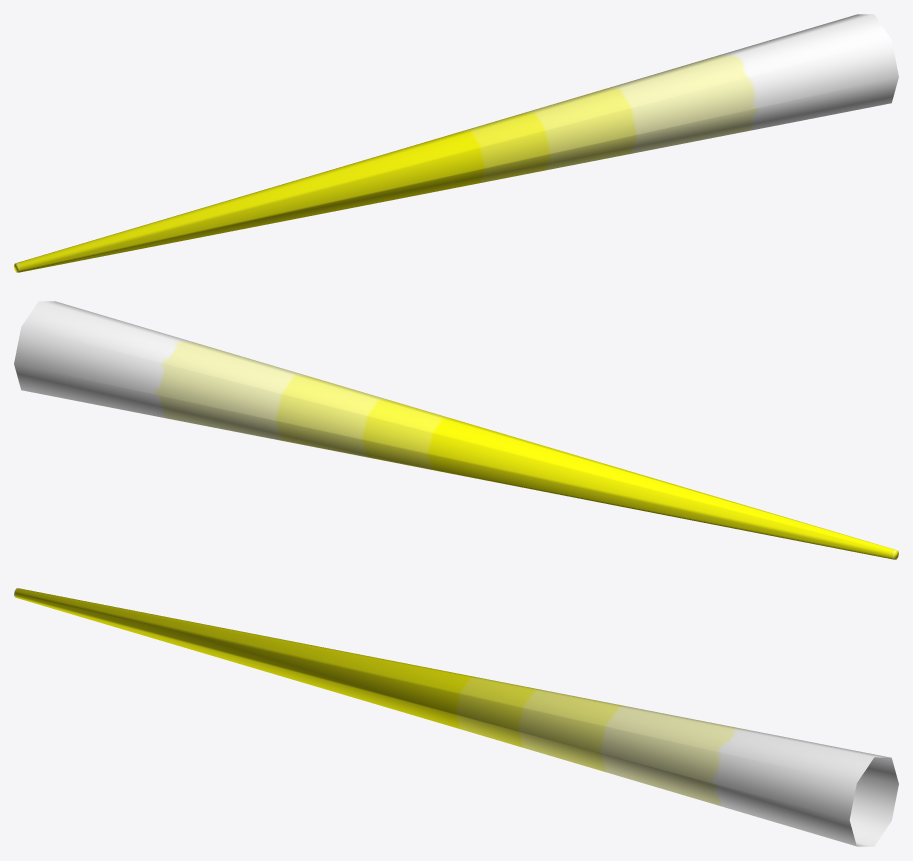
File: Light_House_light_0.1.glb
The picture shows the model from 3 angles, top to bottom: view 1: azimuth 30°, elevation 25°; view 2: azimuth 150°, elevation 25°; view 3: azimuth 330°, elevation 25°; orthographic projection.
Parts seen in each view (by area): view 1: lighthouse_light; view 2: lighthouse_light; view 3: lighthouse_light.
Boxes of the visible parts, bbox=[...] form: lighthouse_light: bbox=[14, 14, 898, 272]; lighthouse_light: bbox=[14, 301, 898, 559]; lighthouse_light: bbox=[14, 588, 898, 846].
Bounding box in the file's own units: 3310 × 330 × 330.
1 material, 1 textured.
